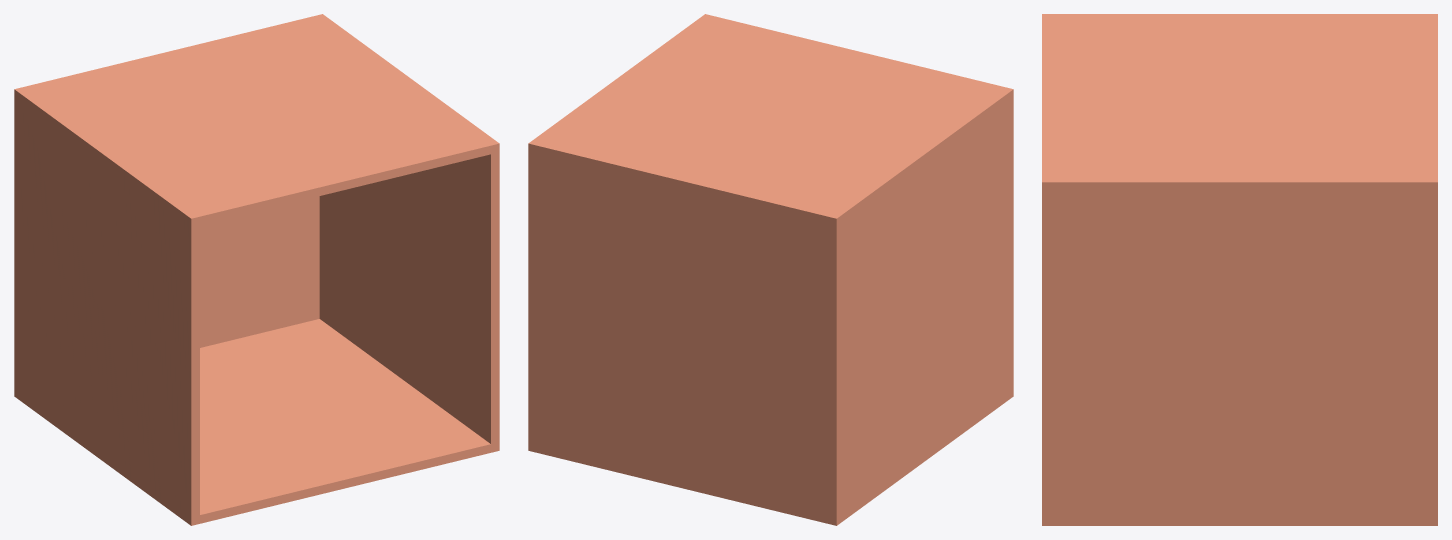
File: interagivel.fbx
3 views of the same model, side by side, from view 1: azimuth 30°, elevation 25°; view 2: azimuth 150°, elevation 25°; view 3: azimuth 270°, elevation 25° (orthographic). The views are drawn at different scales.
Visible parts, largest first — view 1: Cube.088; view 2: Cube.088; view 3: Cube.088.
Part boxes in pixels (x1=…): Cube.088: x1=14, y1=14, x2=499, y2=525; Cube.088: x1=528, y1=14, x2=1013, y2=525; Cube.088: x1=1042, y1=14, x2=1437, y2=525.
Size of the model in its own units: 82.74 by 78.76 by 82.23.
